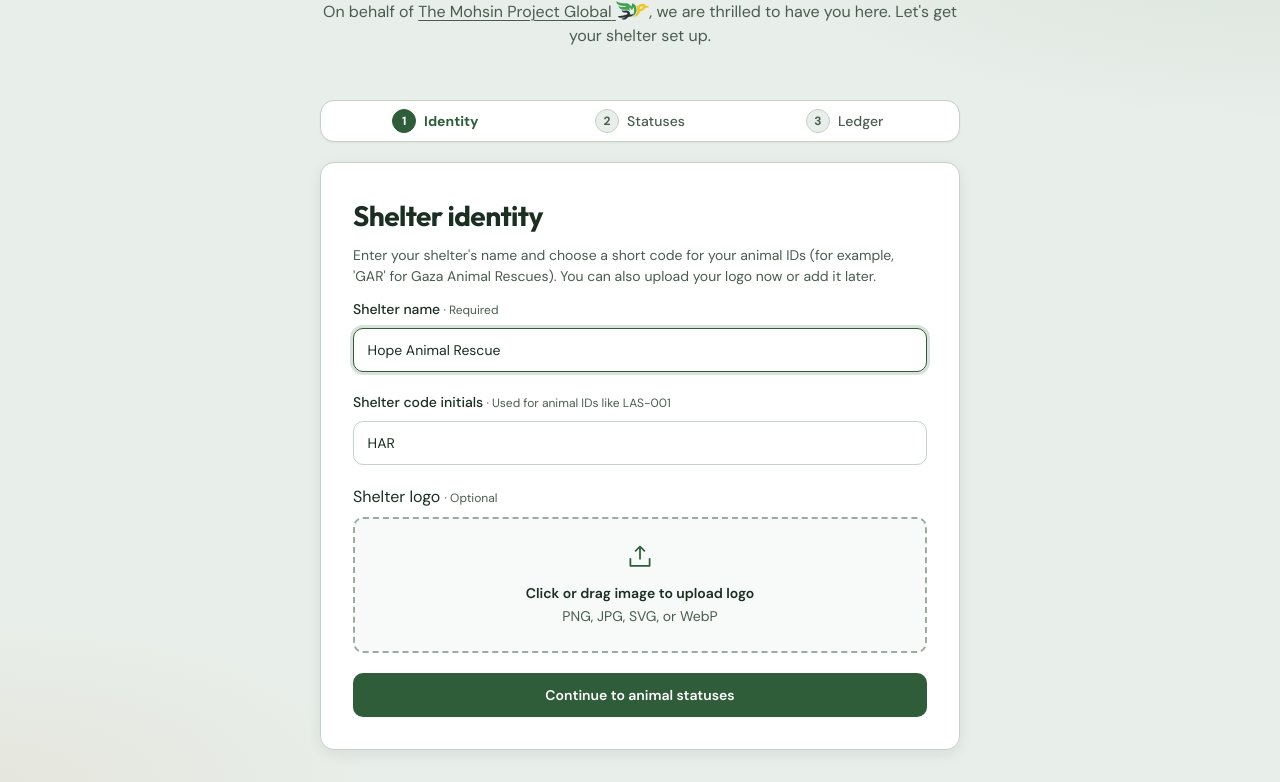
OnboardingScreen › displays error on Step 3 if commit fails
(page scrolled)
Click the button "Continue to animal statuses" at (640, 695), box [353,673,927,717]
(page scrolled)
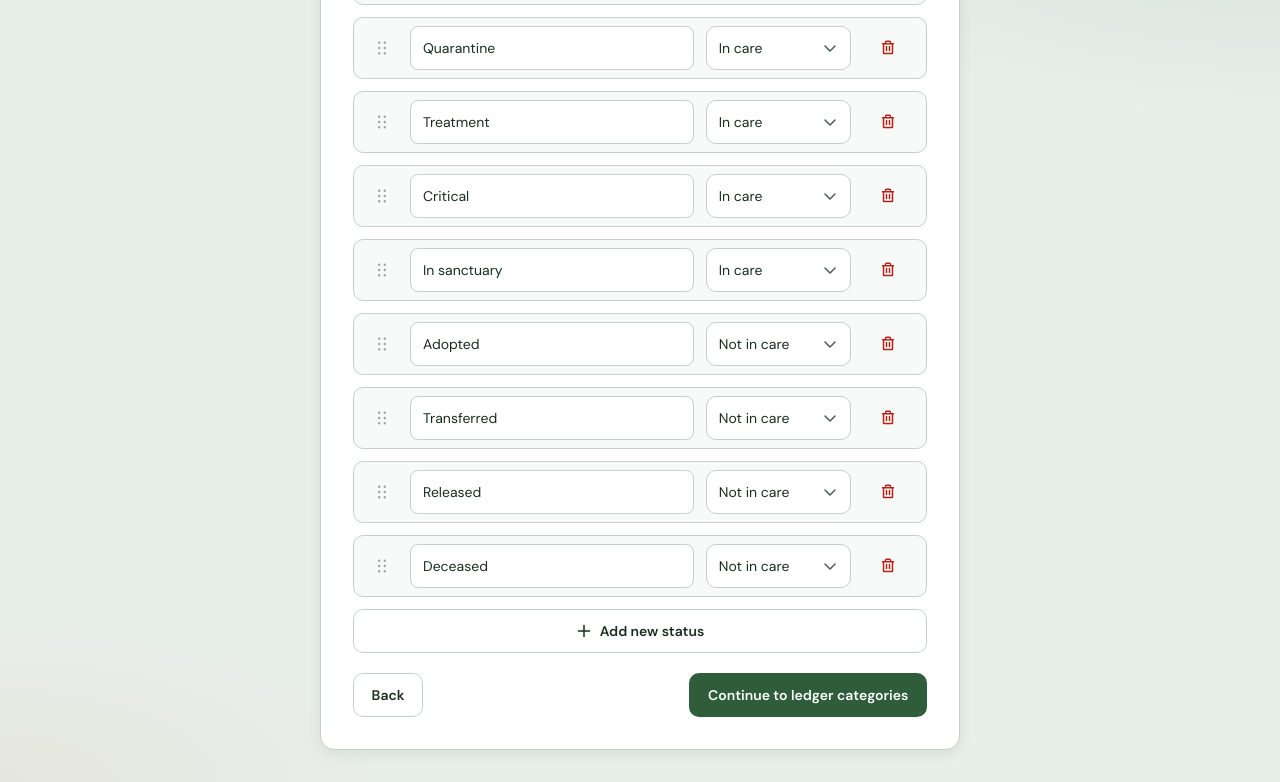
Click the button "Continue to ledger categories" at (808, 695), box [689,673,927,717]
(page scrolled)
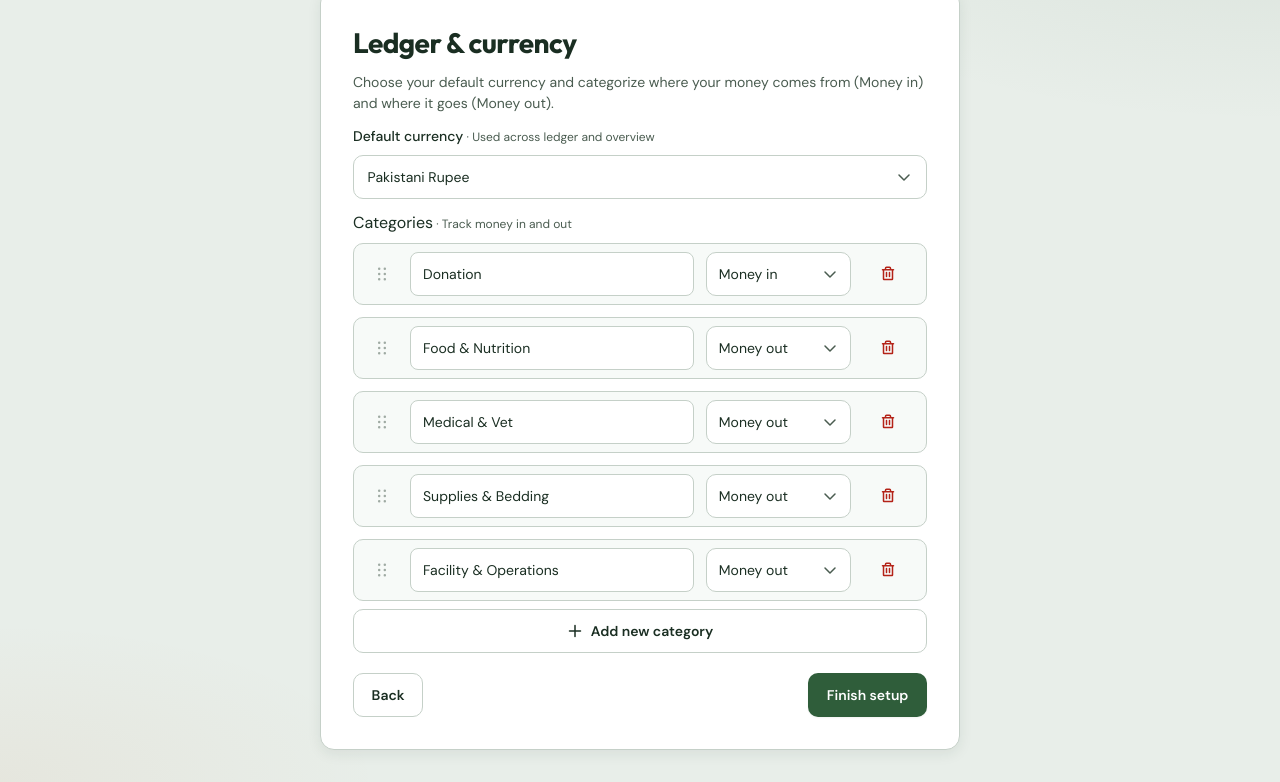
Click the button "Finish setup" at (868, 695), box [808,673,927,717]
(page scrolled)
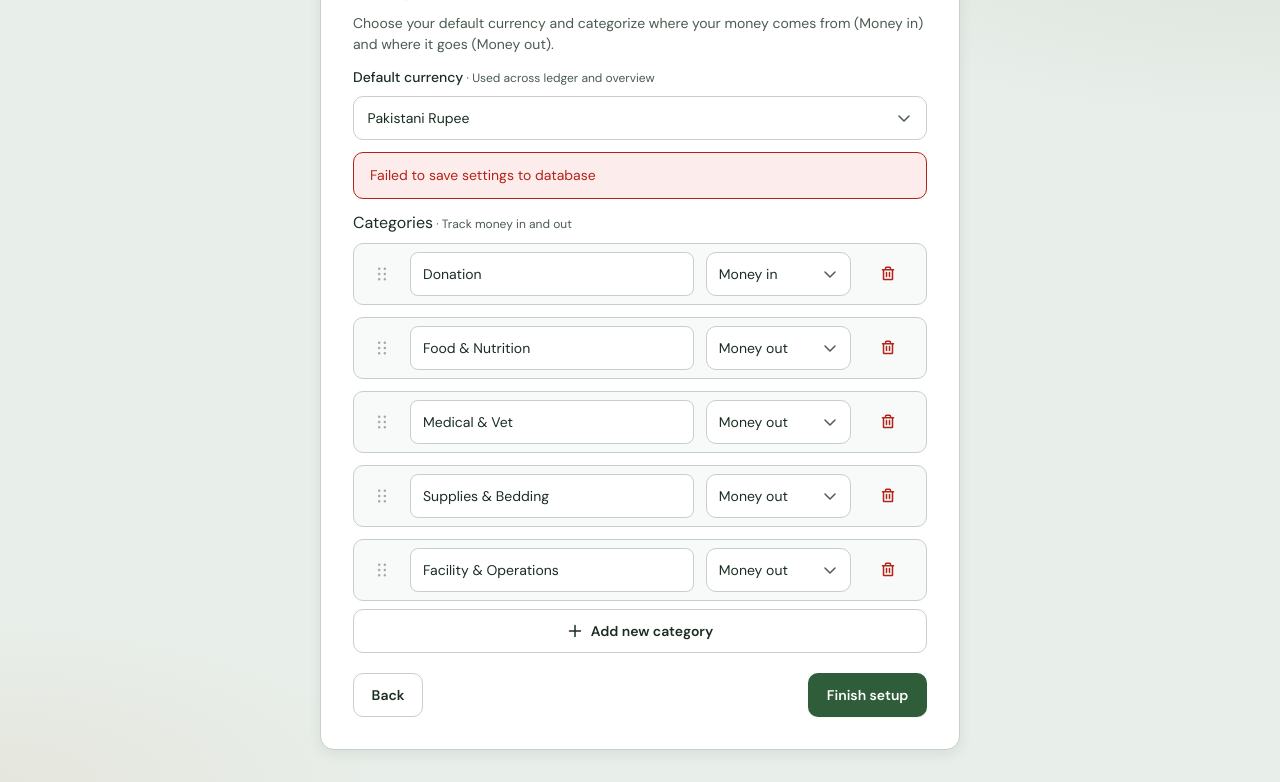
Expected: the text "Failed to save settings to database" is shown, [370,166,596,184]
